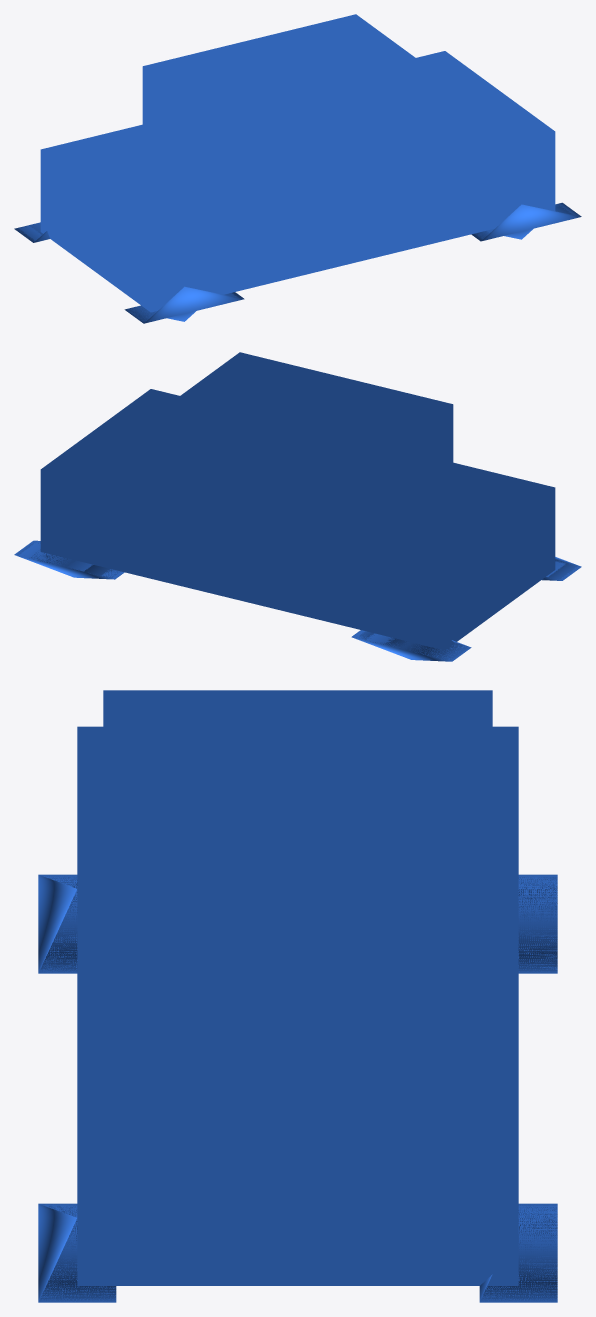
The model's file is car.obj.
3 renders of one model, top to bottom at view 1: azimuth 30°, elevation 25°; view 2: azimuth 150°, elevation 25°; view 3: azimuth 270°, elevation 25°, orthographic. The views are drawn at different scales.
Visible parts, largest first — view 1: car; view 2: car; view 3: car.
Boxes of the visible parts, bbox=[...] form: car: bbox=[14, 14, 581, 323]; car: bbox=[14, 352, 581, 661]; car: bbox=[38, 690, 557, 1302].
Bounding box in the file's own units: 3.9 × 1.4 × 2.
